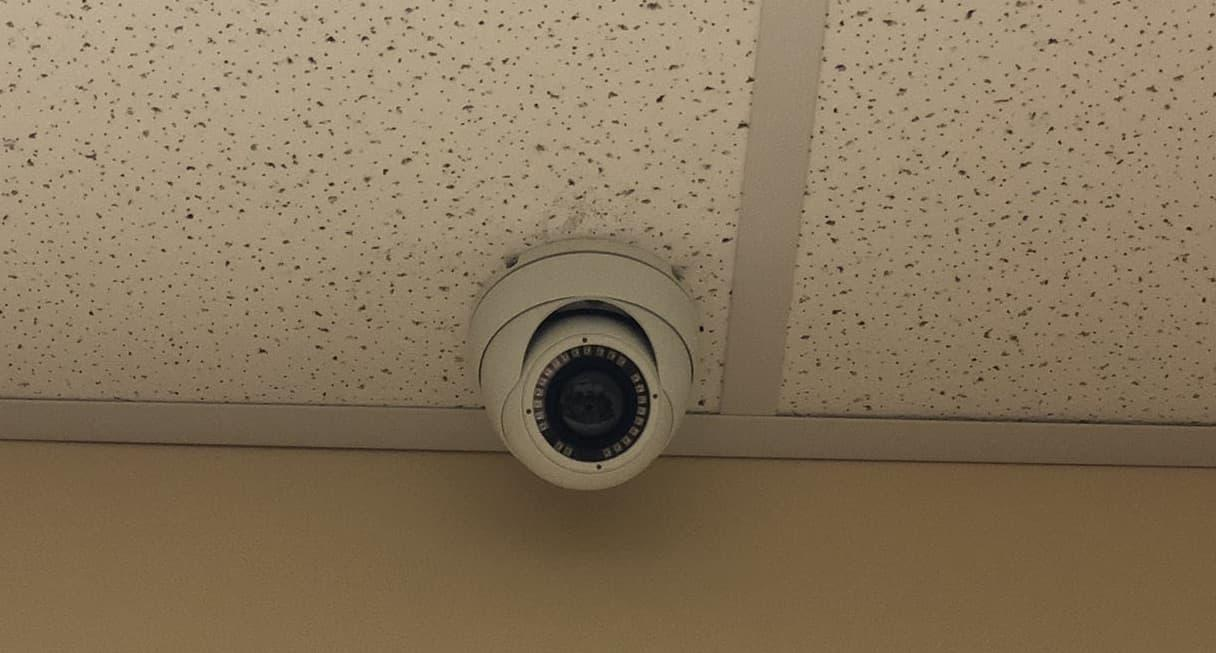CCTV: (470, 240, 699, 490)
